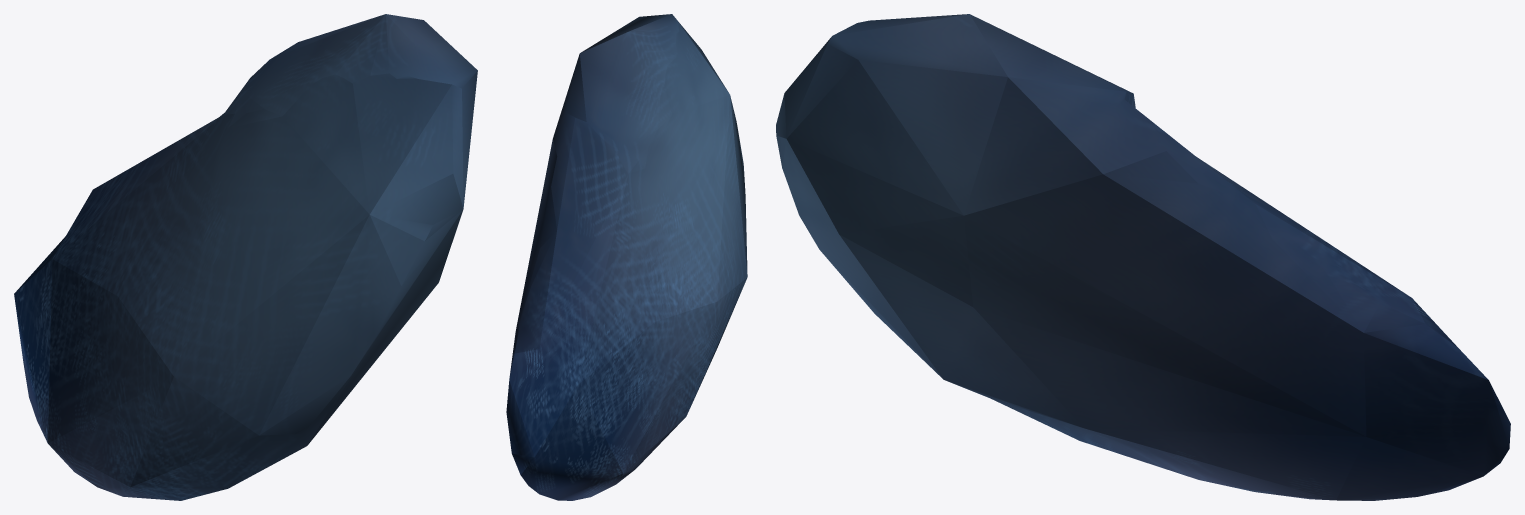
Rendered from WITCH_L_ARM.obj.
3 renders of one model, left to right at view 1: azimuth 30°, elevation 25°; view 2: azimuth 150°, elevation 25°; view 3: azimuth 270°, elevation 25°, orthographic. The views are drawn at different scales.
Parts seen in each view (by area): view 1: WITCH_L_ARM:Mesh; view 2: WITCH_L_ARM:Mesh; view 3: WITCH_L_ARM:Mesh.
Part boxes in pixels (x1=…): WITCH_L_ARM:Mesh: x1=14, y1=14, x2=477, y2=500; WITCH_L_ARM:Mesh: x1=506, y1=14, x2=747, y2=500; WITCH_L_ARM:Mesh: x1=776, y1=14, x2=1510, y2=500.
Bounding box in the file's own units: 0.1877 × 0.4213 × 0.5024.
1 material, 1 textured.
